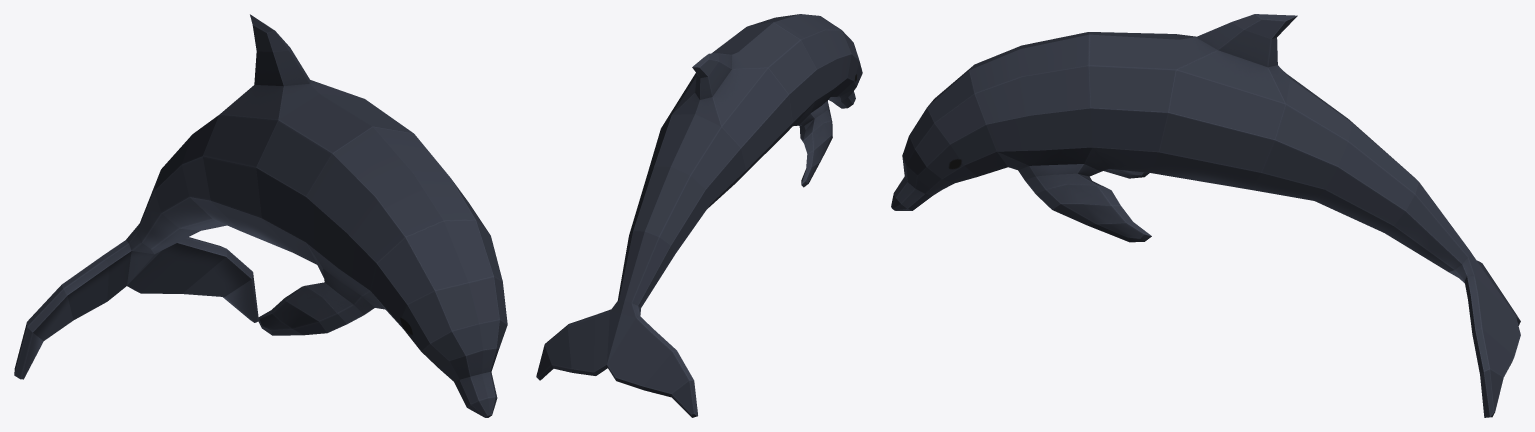
The model's file is Dolphin.gltf.
3 views of the same model, side by side, from view 1: azimuth 30°, elevation 25°; view 2: azimuth 150°, elevation 25°; view 3: azimuth 270°, elevation 25° (orthographic). The views are drawn at different scales.
Visible parts, largest first — view 1: node-0; view 2: node-0; view 3: node-0.
Part boxes in pixels (x1=…): node-0: x1=14, y1=14, x2=507, y2=417; node-0: x1=536, y1=14, x2=862, y2=417; node-0: x1=891, y1=14, x2=1520, y2=417.
Size of the model in its own units: 5.63 by 9.25 by 14.84.
1 material, 1 textured.
